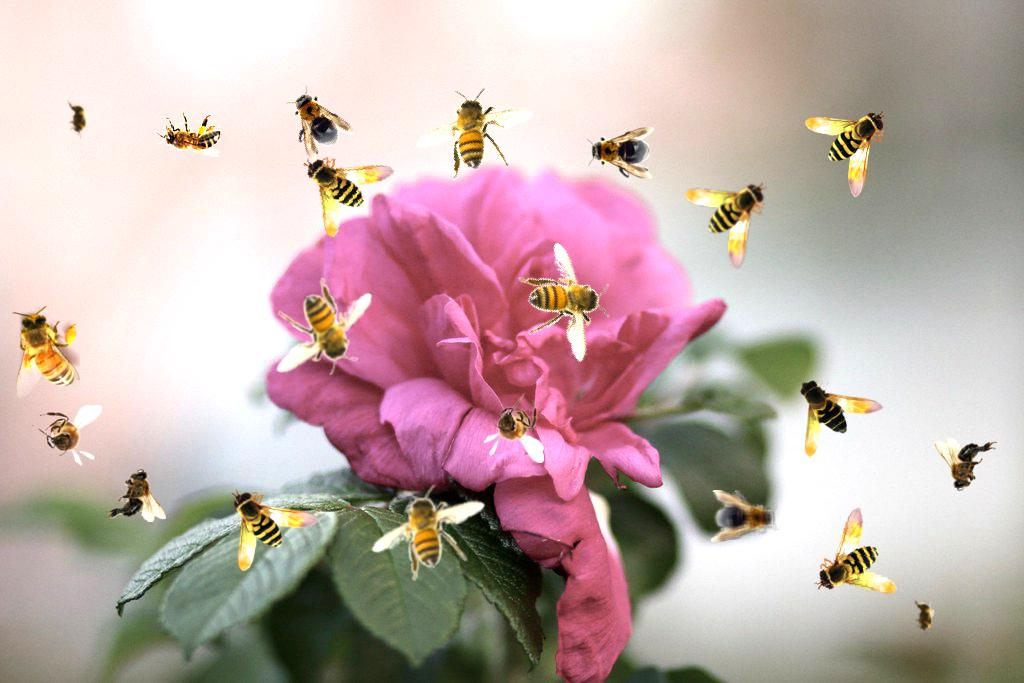Bee: (359, 457, 504, 603), (404, 60, 551, 204), (494, 232, 637, 378), (254, 260, 387, 402), (301, 140, 407, 240), (813, 502, 909, 602), (273, 78, 357, 164), (685, 182, 767, 270), (797, 376, 885, 458), (805, 110, 887, 198), (231, 489, 319, 571), (12, 306, 80, 399), (483, 393, 544, 463), (32, 405, 102, 466), (586, 127, 654, 179), (711, 490, 779, 542), (935, 438, 997, 491), (104, 469, 166, 522), (155, 112, 221, 157), (67, 99, 89, 139), (913, 597, 935, 637)
